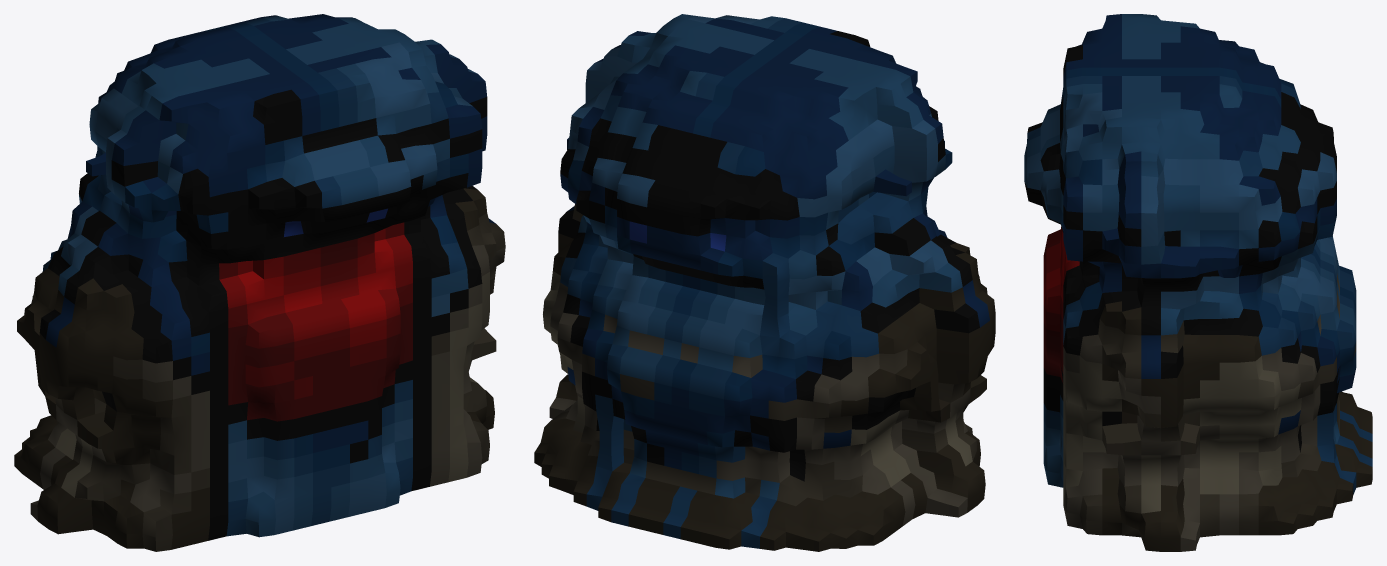
Rendered from Icon_710_03.obj.
The picture shows the model from 3 angles, left to right: view 1: azimuth 30°, elevation 25°; view 2: azimuth 150°, elevation 25°; view 3: azimuth 270°, elevation 25°; orthographic projection. The views are drawn at different scales.
Bounding box in the file's own units: 2.4 × 2.2 × 1.78.
